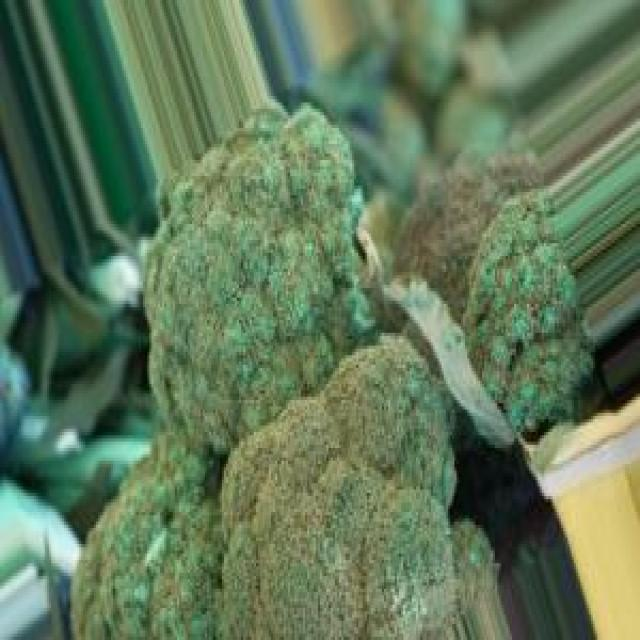Healthy: (74, 110, 534, 640), (71, 103, 385, 640), (325, 14, 600, 449)
